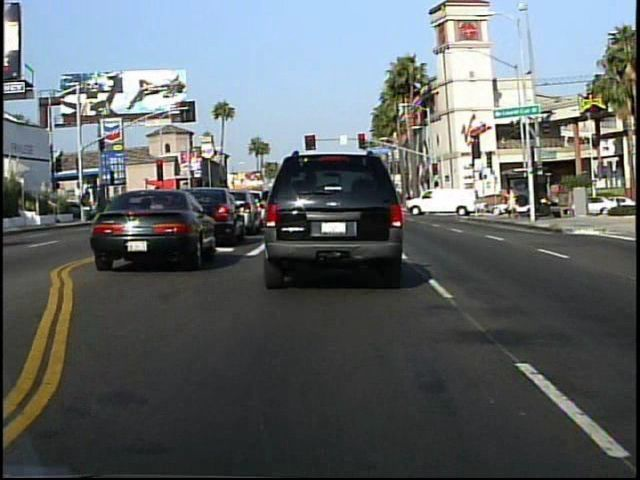person: (502, 183, 520, 223)
